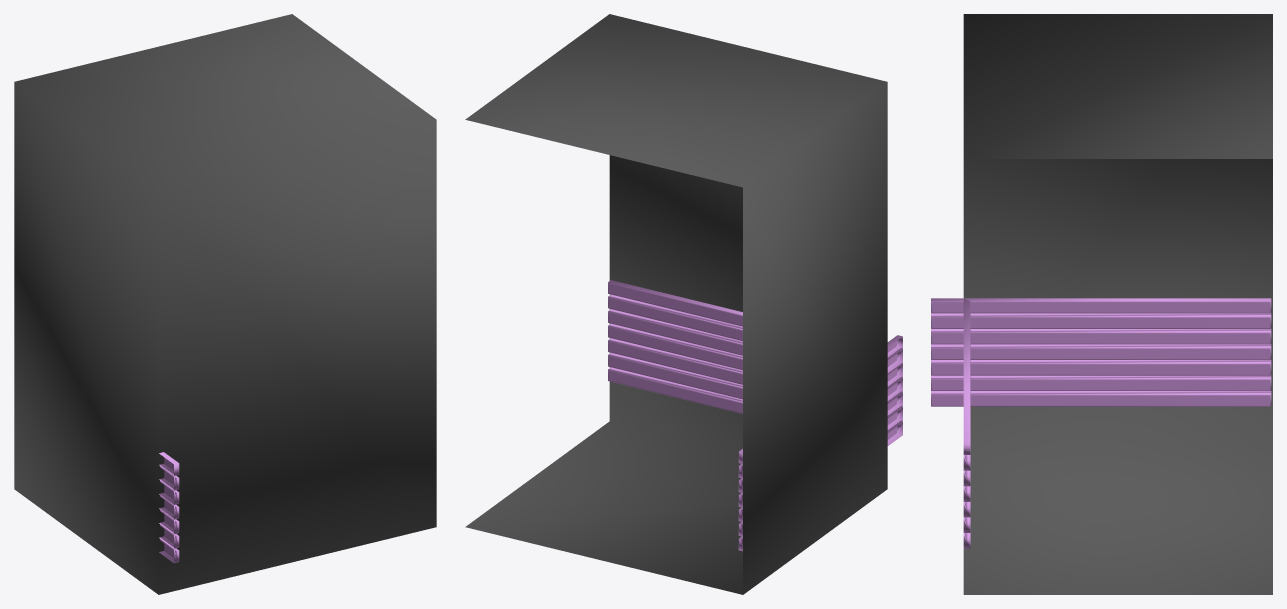
Rendered from ModularWallWoodPanelsMiddle.obj.
3 renders of one model, left to right at view 1: azimuth 30°, elevation 25°; view 2: azimuth 150°, elevation 25°; view 3: azimuth 270°, elevation 25°, orthographic. The views are drawn at different scales.
Visible parts, largest first — view 1: Box001; view 2: Box001, Box006, Box008, Box010, Box005, Box007, Box004, Box009; view 3: Box001, Box016, Box012, Box013, Box015, Box017, Box011, Box014, Box009.
Boxes of the visible parts, bbox=[...] form: Box001: bbox=[14, 14, 436, 594]; Box001: bbox=[465, 14, 887, 594]; Box006: bbox=[608, 323, 742, 370]; Box008: bbox=[608, 294, 742, 341]; Box010: bbox=[608, 367, 742, 413]; Box005: bbox=[608, 338, 742, 384]; Box007: bbox=[608, 309, 742, 355]; Box004: bbox=[608, 352, 742, 399]; Box009: bbox=[608, 280, 742, 326]; Box001: bbox=[963, 14, 1272, 594]; Box016: bbox=[931, 298, 1271, 313]; Box012: bbox=[931, 360, 1271, 375]; Box013: bbox=[931, 344, 1271, 359]; Box015: bbox=[931, 313, 1271, 328]; Box017: bbox=[931, 391, 1271, 406]; Box011: bbox=[931, 375, 1271, 390]; Box014: bbox=[931, 329, 1271, 344]; Box009: bbox=[963, 299, 970, 454].
Bounding box in the file's own units: 78.74 × 110 × 78.35.
